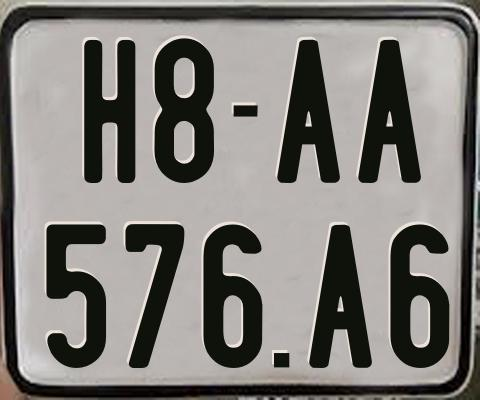5: (45, 221, 107, 366)
6: (200, 222, 265, 370), (388, 223, 451, 369)
7: (124, 224, 184, 368)
8: (153, 38, 215, 183)
A: (309, 225, 378, 371), (276, 40, 340, 184), (356, 39, 419, 185)
H: (83, 40, 137, 183)
